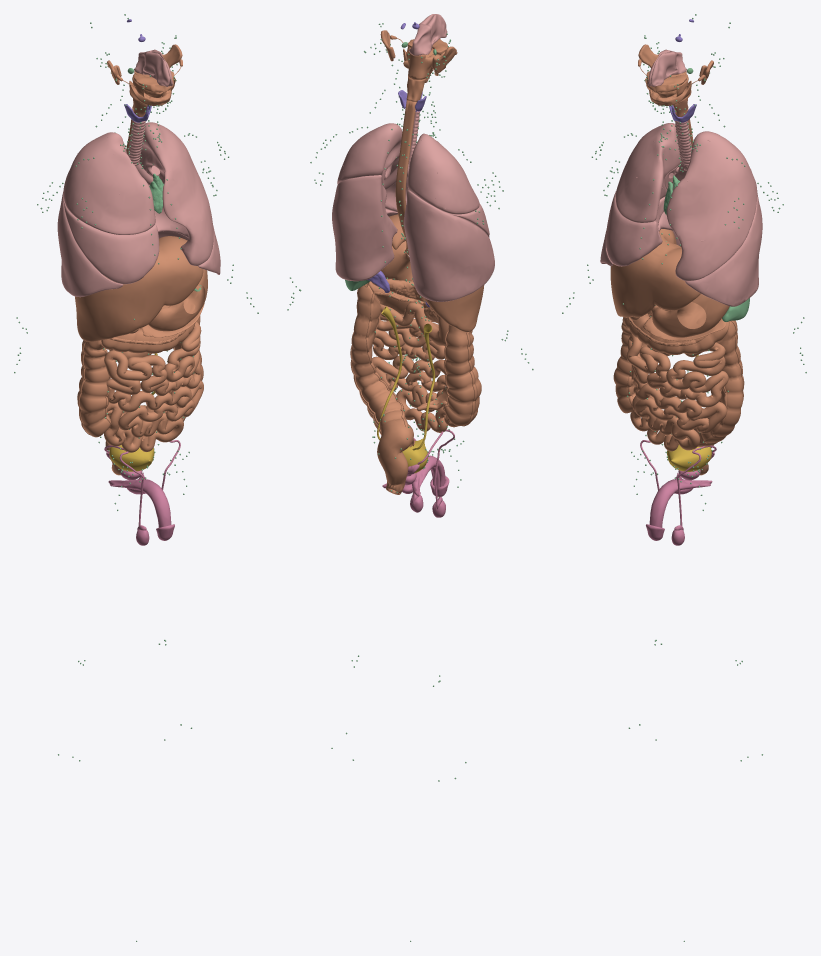
The model's file is organs.glb.
3 views of the same model, side by side, from view 1: azimuth 30°, elevation 25°; view 2: azimuth 150°, elevation 25°; view 3: azimuth 330°, elevation 25° (orthographic).
Visible parts, largest first — view 1: Jejunum, Superior lobe of right lung, Liver, Superior lobe of left lung, Middle lobe of right lung, Ascending colon, Inferior lobe of right lung, Stomach, Transverse colon, Inferior lobe of left lung, Corpus cavernosum of penis, Gingiva (+4 smaller); view 2: Inferior lobe of right lung, Inferior lobe of left lung, Jejunum, Superior lobe of right lung, Descending colon, Superior lobe of left lung, Ascending colon, Sigmoid colon, Liver, Oesophagus, Free taenia, Duodenum (+7 smaller); view 3: Superior lobe of left lung, Jejunum, Liver, Superior lobe of right lung, Inferior lobe of left lung, Middle lobe of right lung, Stomach, Descending colon, Transverse colon, Ascending colon, Corpus cavernosum of penis, Gingiva (+5 smaller).
Boxes of the visible parts, x1,y1,x2,y2 form: Jejunum: (104, 322, 203, 452); Superior lobe of right lung: (63, 132, 155, 234); Liver: (75, 236, 203, 341); Superior lobe of left lung: (139, 122, 213, 265); Middle lobe of right lung: (63, 200, 159, 284); Ascending colon: (77, 340, 110, 437); Inferior lobe of right lung: (57, 191, 122, 297); Stomach: (148, 269, 207, 331); Transverse colon: (101, 298, 195, 353); Inferior lobe of left lung: (149, 166, 220, 274); Corpus cavernosum of penis: (108, 472, 171, 527); Gingiva: (129, 71, 174, 105); Inferior lobe of right lung: (403, 190, 494, 301); Inferior lobe of left lung: (332, 175, 397, 281); Jejunum: (372, 304, 458, 432); Superior lobe of right lung: (407, 133, 479, 214); Descending colon: (351, 285, 413, 447); Superior lobe of left lung: (337, 123, 408, 211); Ascending colon: (444, 325, 481, 425); Sigmoid colon: (377, 419, 413, 494); Liver: (389, 214, 484, 331); Oesophagus: (395, 100, 416, 255); Free taenia: (365, 292, 449, 427); Duodenum: (405, 302, 449, 345); Superior lobe of left lung: (666, 131, 757, 280); Jejunum: (626, 334, 728, 451); Liver: (610, 229, 700, 317); Superior lobe of right lung: (615, 123, 680, 222); Inferior lobe of left lung: (685, 193, 762, 306); Middle lobe of right lung: (606, 191, 664, 266); Stomach: (651, 294, 729, 337); Descending colon: (687, 320, 743, 446); Transverse colon: (624, 313, 729, 354); Ascending colon: (613, 317, 647, 413); Corpus cavernosum of penis: (649, 473, 712, 527); Gingiva: (646, 71, 691, 105).
Size of the model in its own units: 0.4523 by 1.62 by 0.2012.
